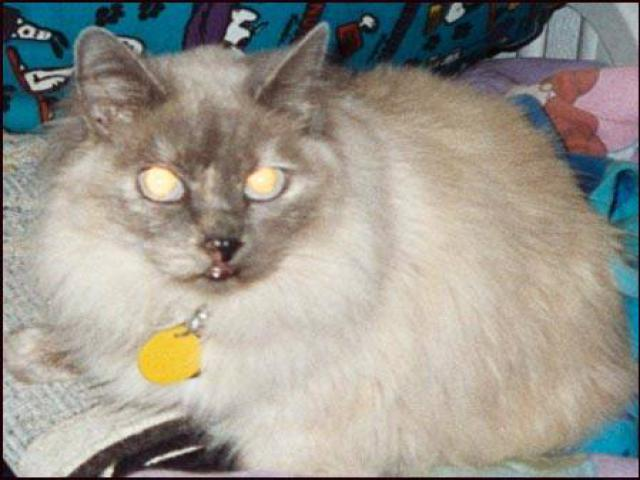cat: (14, 23, 633, 476)
